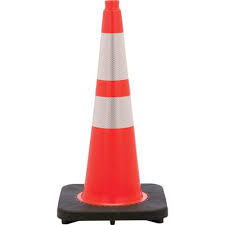cones: (57, 1, 170, 225)
